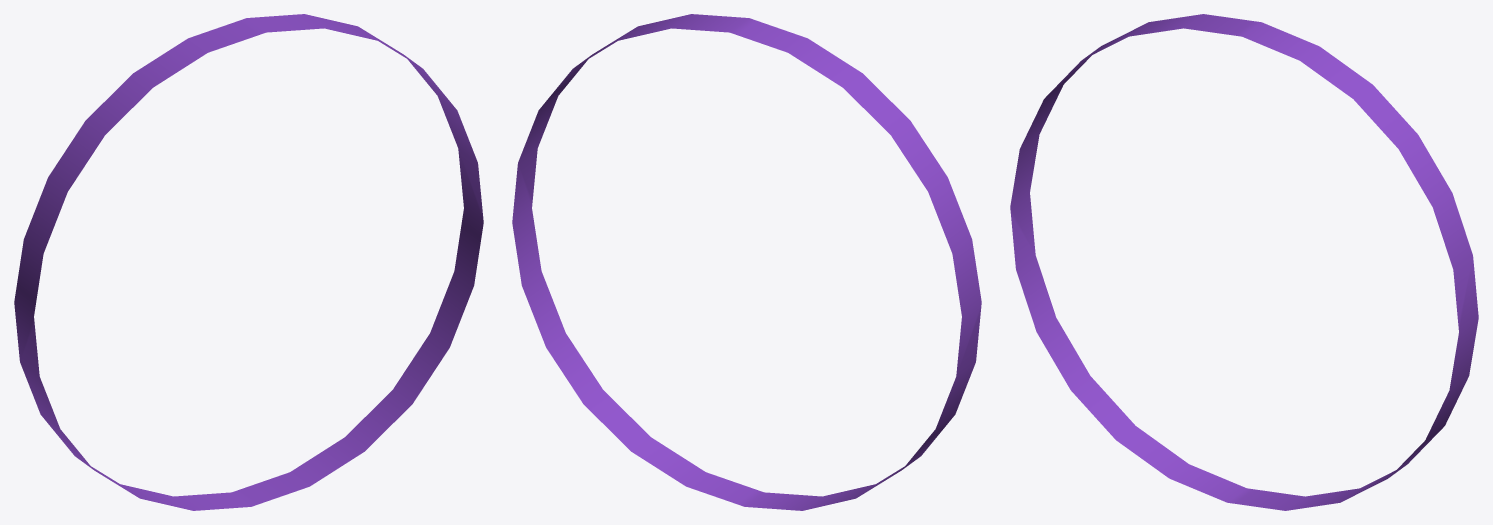
File: original-6.obj
The picture shows the model from 3 angles, left to right: view 1: azimuth 30°, elevation 25°; view 2: azimuth 150°, elevation 25°; view 3: azimuth 330°, elevation 25°; orthographic projection.
Parts seen in each view (by area): view 1: #ID39; view 2: #ID39; view 3: #ID39.
Boxes of the visible parts, <box> form: #ID39: <box>14,14,483,510</box>; #ID39: <box>512,14,981,510</box>; #ID39: <box>1010,14,1478,510</box>.
Size of the model in its own units: 0.4452 by 0.4452 by 0.0339.
